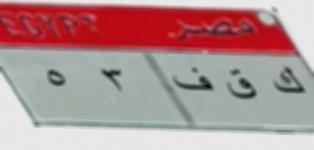3: (98, 63, 129, 101)
5: (42, 63, 69, 98)
faa: (170, 65, 215, 100)
kaaf: (269, 65, 308, 103)
qaaf: (224, 66, 259, 109)
